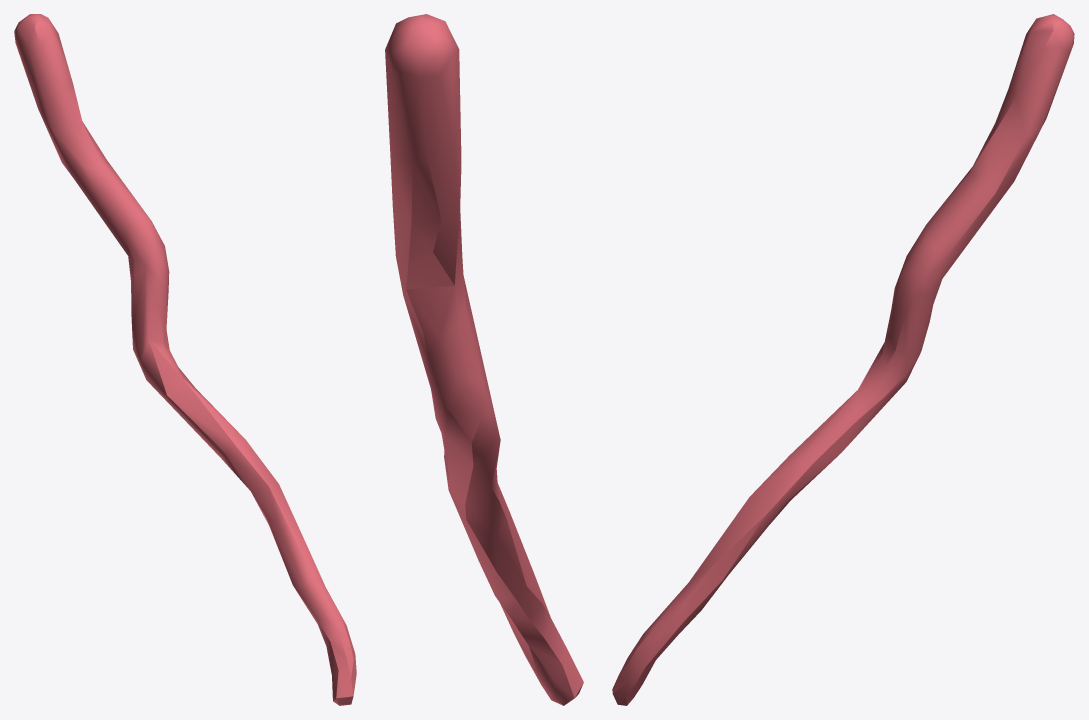
Rendered from fma3895_fj3663.glb.
3 renders of one model, left to right at view 1: azimuth 30°, elevation 25°; view 2: azimuth 150°, elevation 25°; view 3: azimuth 270°, elevation 25°, orthographic. The views are drawn at different scales.
Parts seen in each view (by area): view 1: FMA3895_FJ3663; view 2: FMA3895_FJ3663; view 3: FMA3895_FJ3663.
Part boxes in pixels (x1,y1,x2,y2): FMA3895_FJ3663: (14, 14, 356, 705); FMA3895_FJ3663: (385, 14, 583, 705); FMA3895_FJ3663: (612, 14, 1074, 705).
Size of the model in its own units: 0.00406 by 0.015 by 0.00996.
